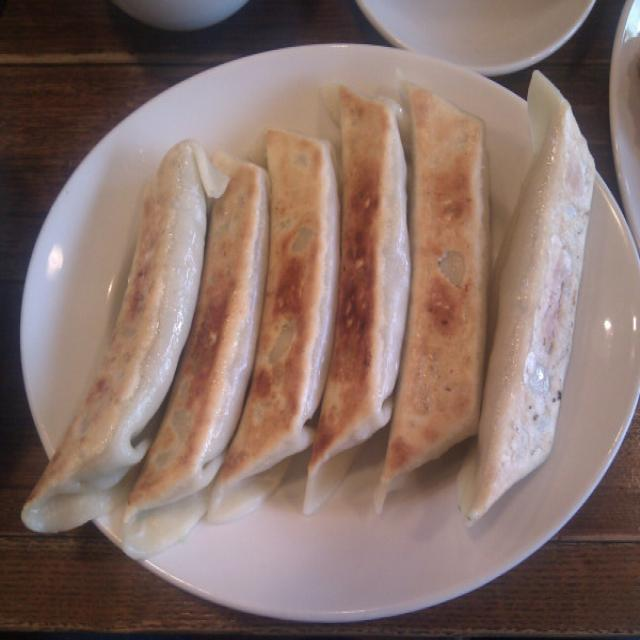带馅早点: (16, 0, 640, 629)
